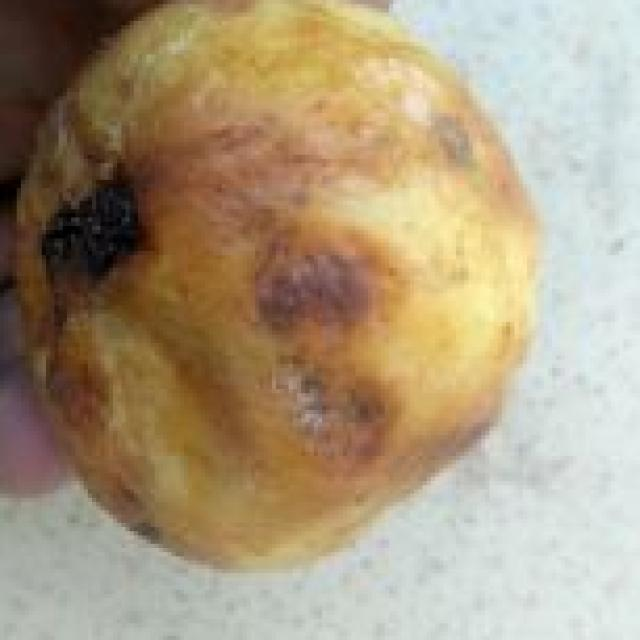Bad_Guava 0 day: (17, 0, 538, 566)
